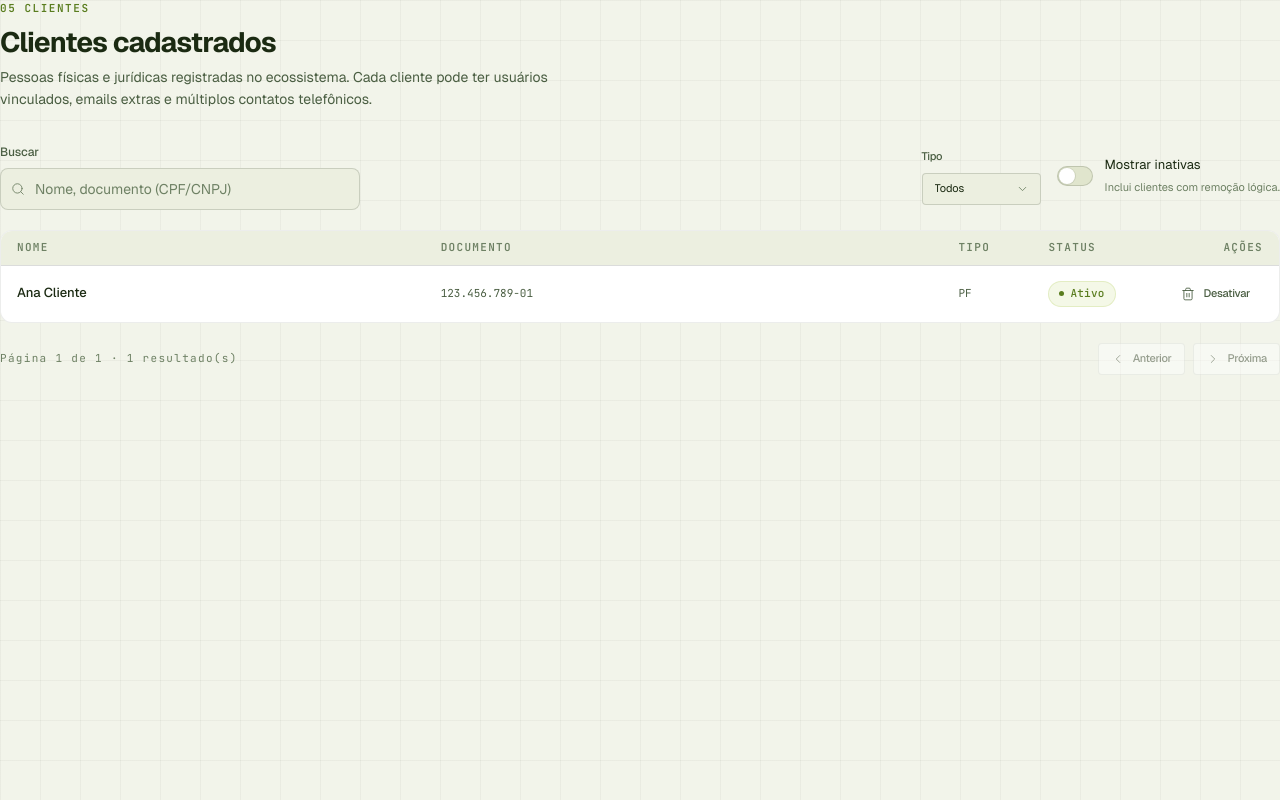
Test case: ClientsListShellPage — desativar (Issue #76) › abertura do diálogo de confirmação › botão Cancelar fecha o modal sem disparar DELETE
What coordinates should you click on to do the following:
click the button "Desativar"
I would click on:
 (1216, 294)
Its box is [1168,278,1263,310].
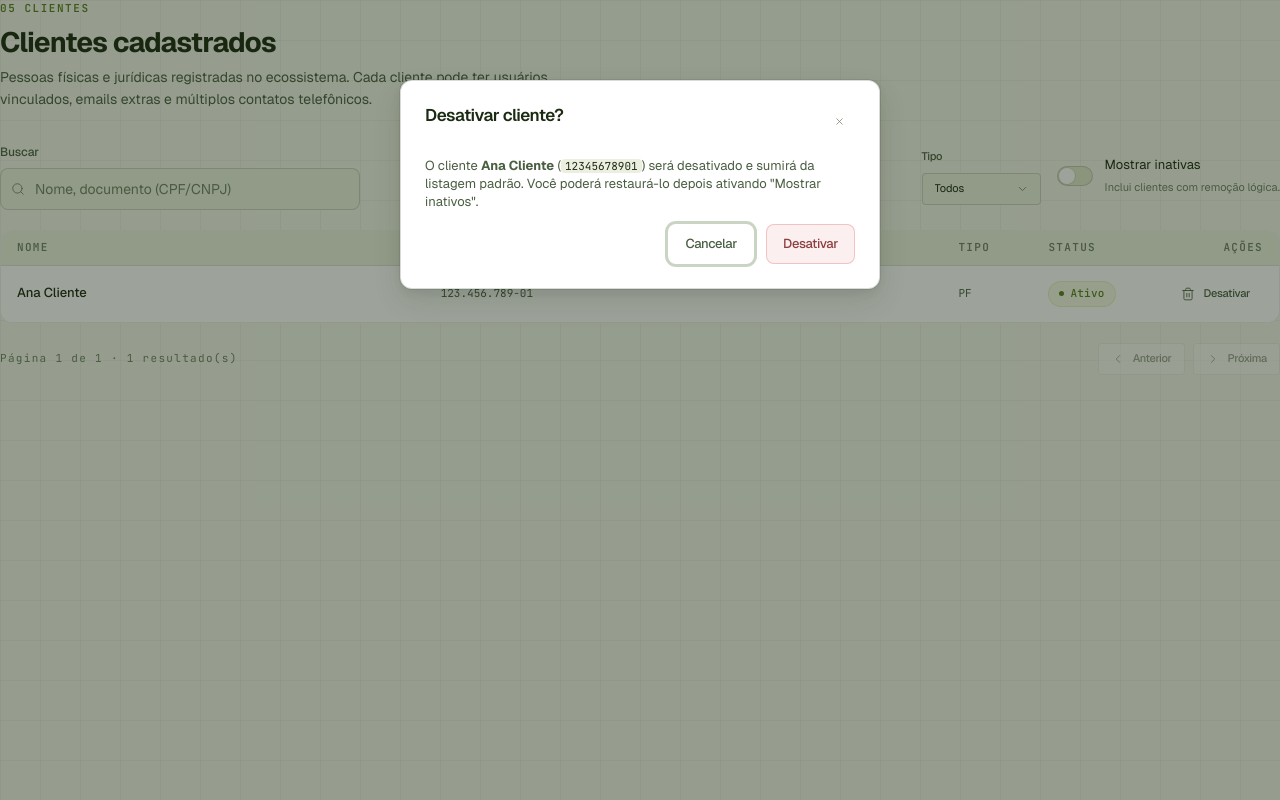
Check: the dialog is shown, box [400,80,880,289]
What coordinates should you click on to do the following:
click the button with test id "delete-client-cancel"
I would click on:
 (711, 244)
Its box is [668,224,754,264].
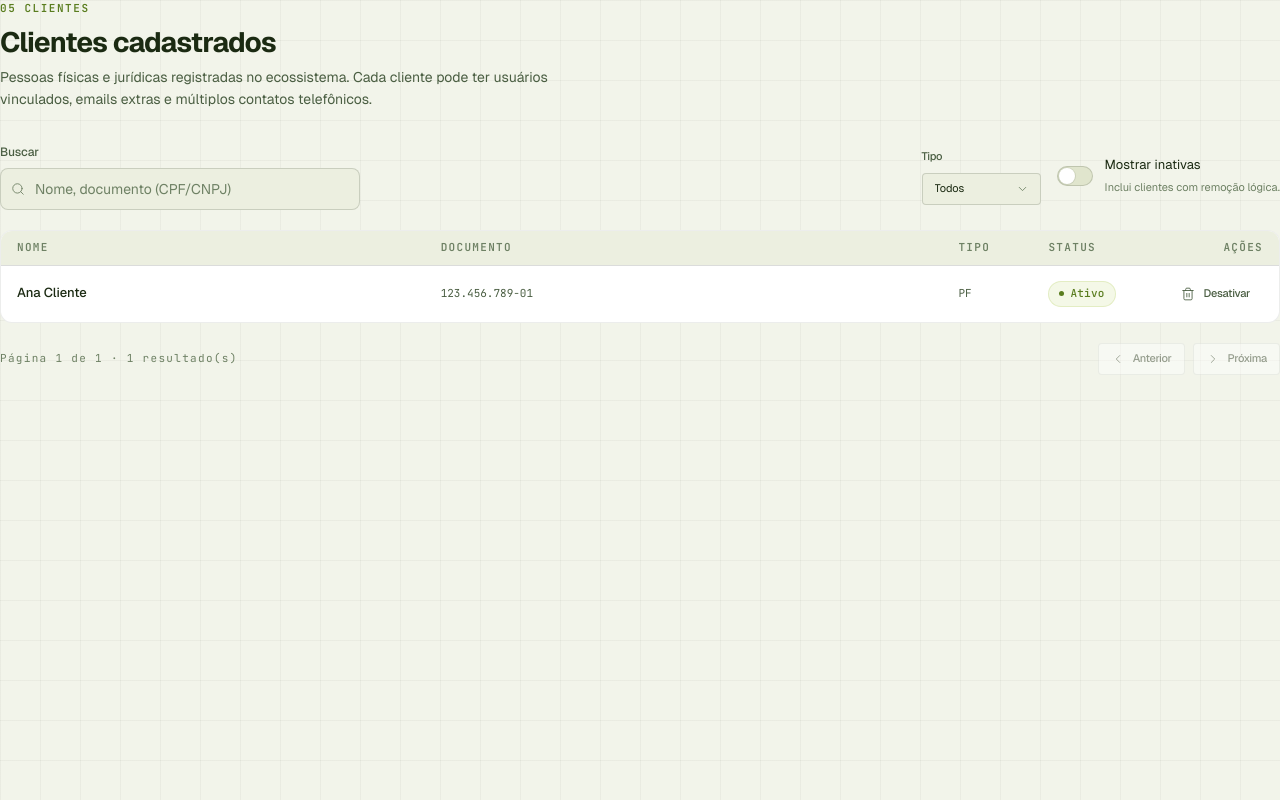
Check: the dialog is gone
